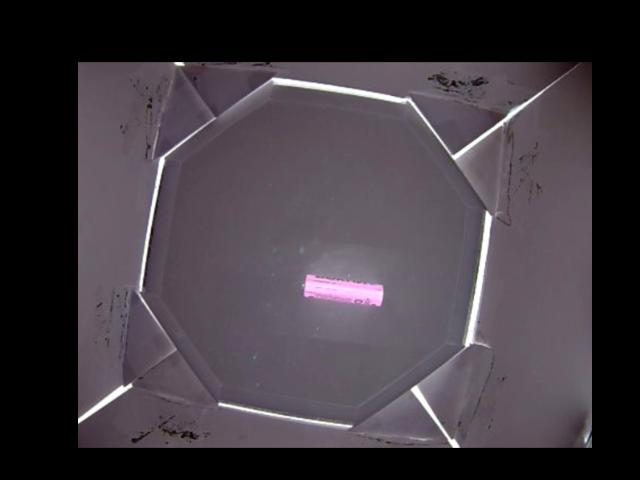Battery: (300, 272, 383, 307)
